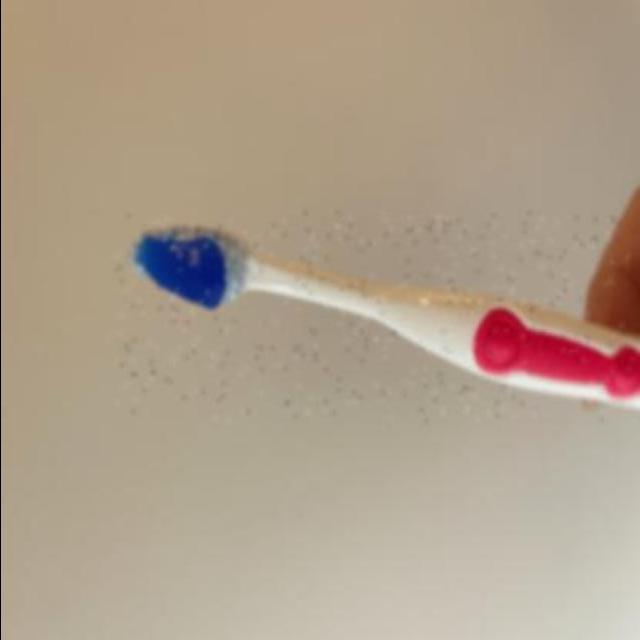toothbrush: (116, 212, 640, 422)
